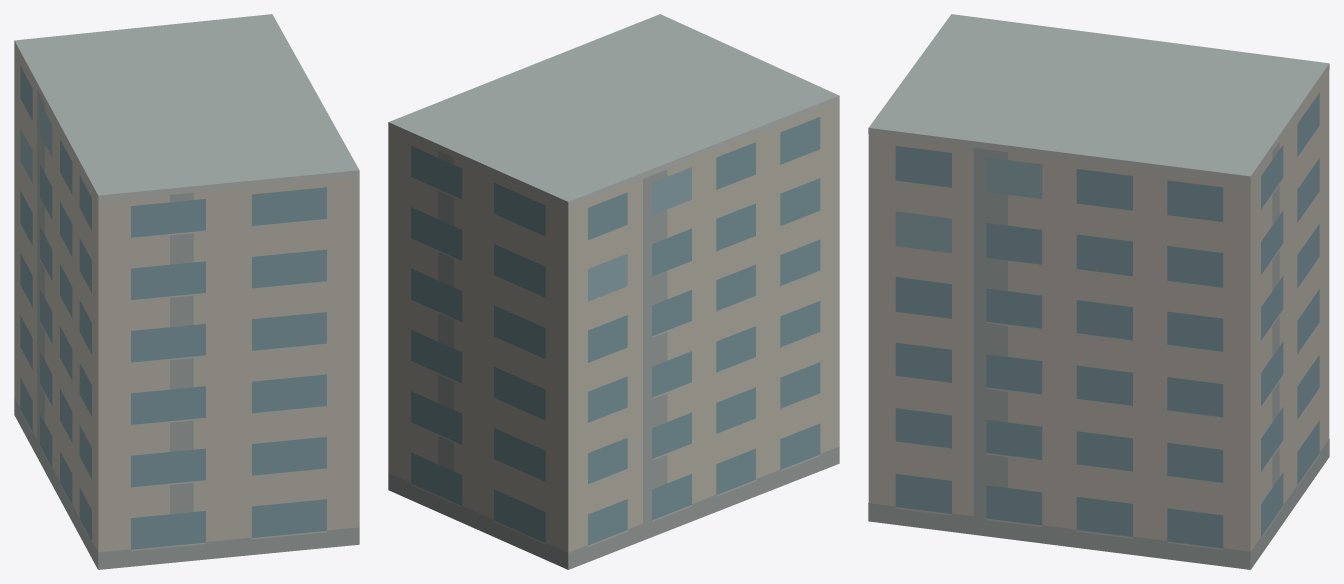
File: survey-upis-32886854.glb
3 renders of one model, left to right at view 1: azimuth 30°, elevation 25°; view 2: azimuth 150°, elevation 25°; view 3: azimuth 270°, elevation 25°, orthographic. The views are drawn at different scales.
Parts seen in each view (by area): view 1: survey-upis-32886854.tmp; view 2: survey-upis-32886854.tmp; view 3: survey-upis-32886854.tmp.
Part boxes in pixels (left/top/right/bottom): survey-upis-32886854.tmp: left=14, top=14, right=359, bottom=569; survey-upis-32886854.tmp: left=388, top=14, right=839, bottom=569; survey-upis-32886854.tmp: left=868, top=14, right=1329, bottom=569.
Size of the model in its own units: 12.75 by 14.4 by 15.3.
